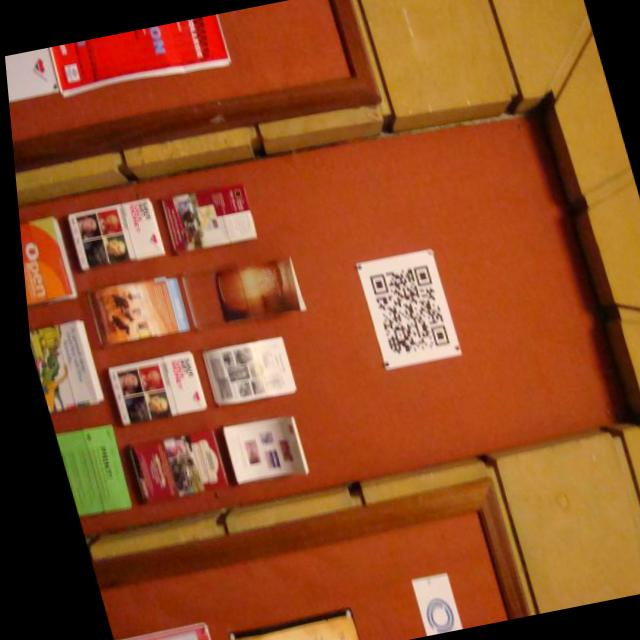qrcode: (365, 267, 444, 356)
